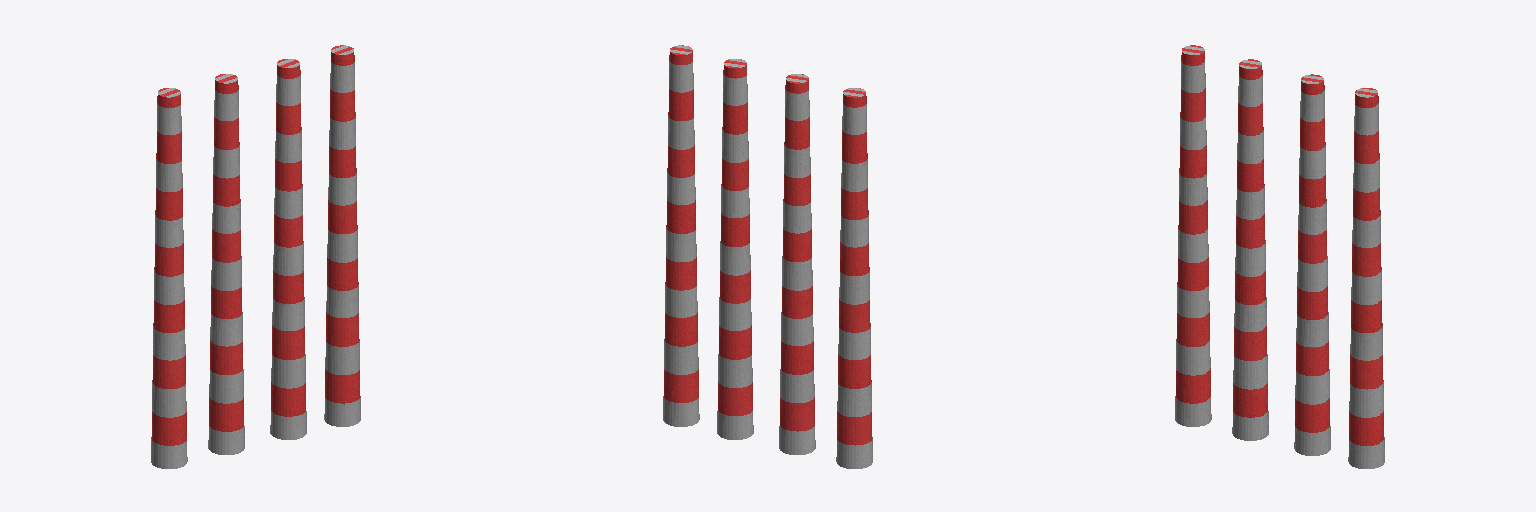
The picture shows the model from 3 angles: view 1: azimuth 30°, elevation 25°; view 2: azimuth 150°, elevation 25°; view 3: azimuth 330°, elevation 25°; orthographic projection.
Parts seen in each view (by area): view 1: Cylinder; view 2: Cylinder; view 3: Cylinder.
Part boxes in pixels (x1,y1,x2,y2): Cylinder: (151, 45, 360, 468); Cylinder: (663, 45, 872, 468); Cylinder: (1175, 45, 1384, 468).
Bounding box in the file's own units: 16.09 × 27.68 × 2.49.
Materials: 1 (1 with a texture image).